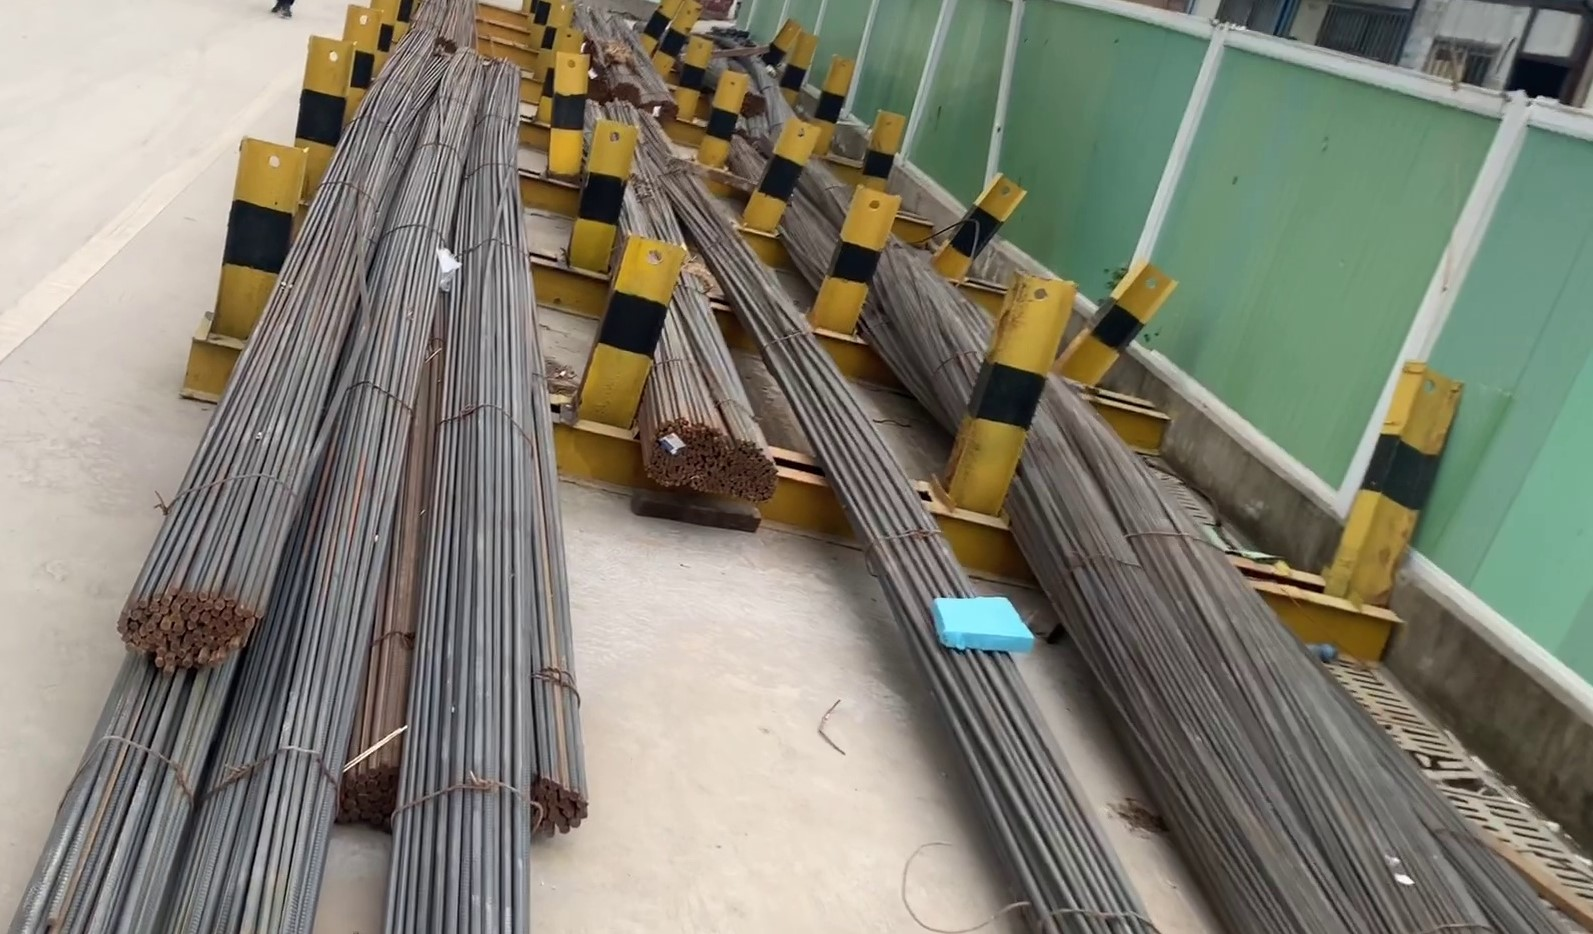rebar: (119, 588, 266, 685), (638, 411, 784, 504), (325, 746, 411, 832), (508, 764, 598, 844)
